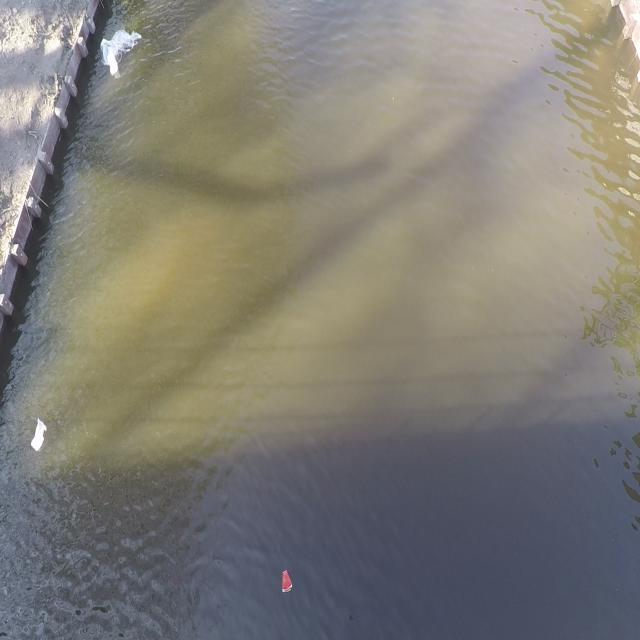Non plastique: (281, 568, 294, 600)
Sac plastique: (100, 28, 143, 76)
